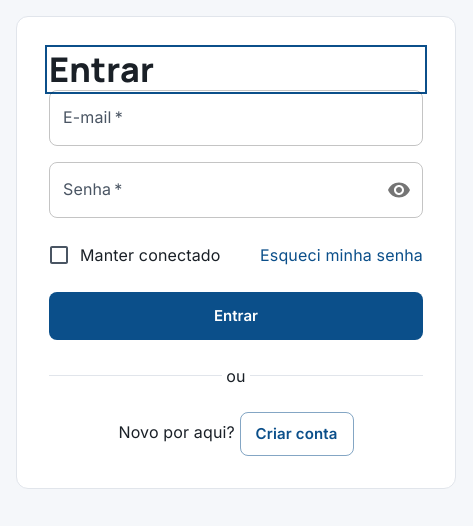
it: Login › 422 com erros por campo → setError no RHF
Type "maria@example.com" into the field labelled "E-mail *" at (236, 118), box [49,90,423,146]
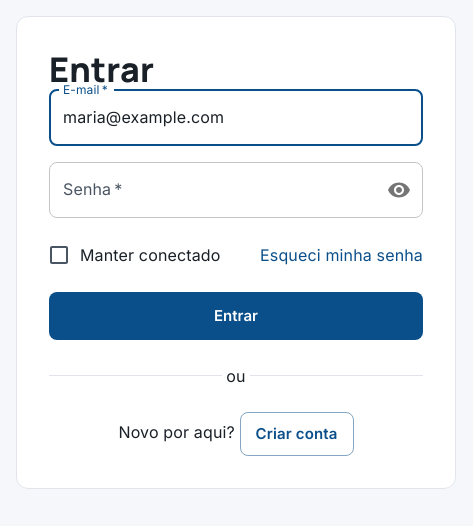
Type "qualquer1" into the password field labelled "Senha *" at (209, 190), box [49,162,369,218]
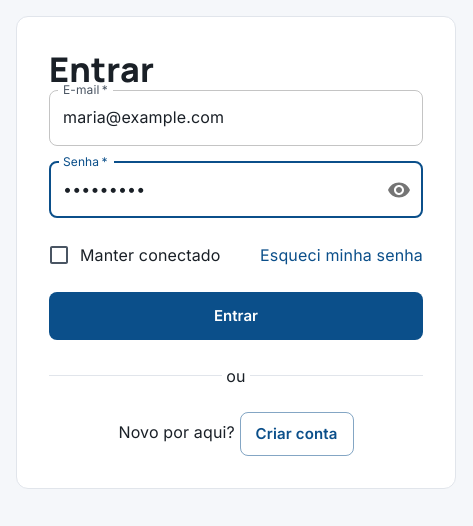
Click the button "Entrar" at (236, 316), box [49,292,423,340]
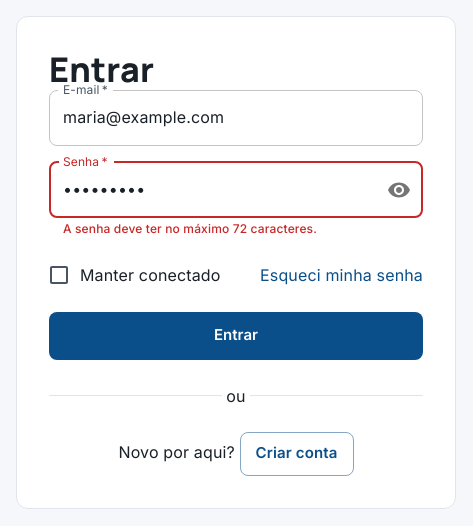
Result: the text "A senha deve ter no máximo 72 caracteres." is shown at [63,221,317,236]
